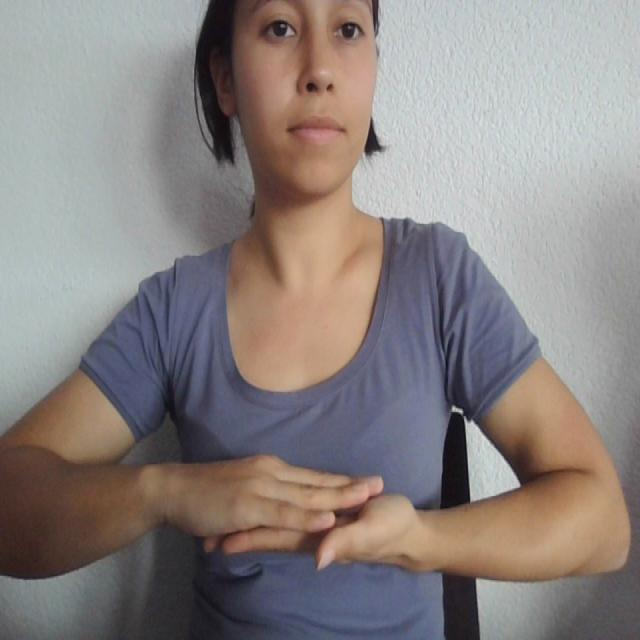Arkadas: (116, 432, 487, 589)
